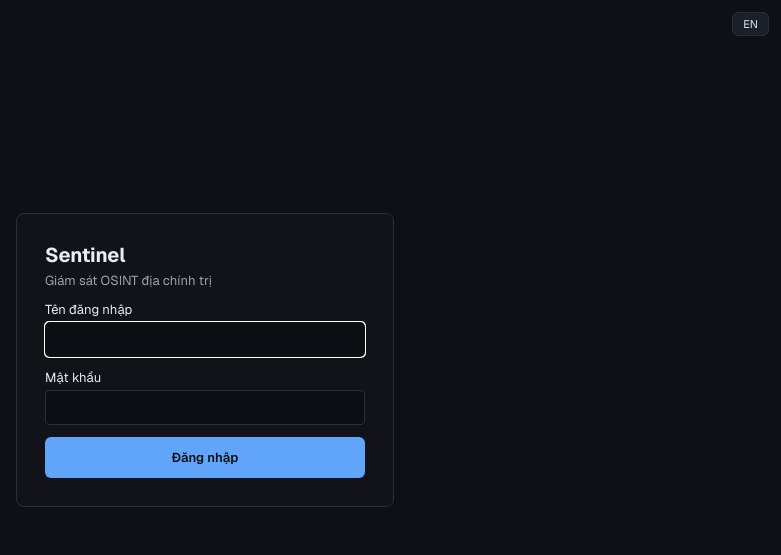
Test: LoginPage › distinguishes a rejected password from an unreachable API
Type "admin" into the field labelled "Tên đăng nhập". click: {"x": 205, "y": 340}
box: x1=45 y1=322 x2=365 y2=357
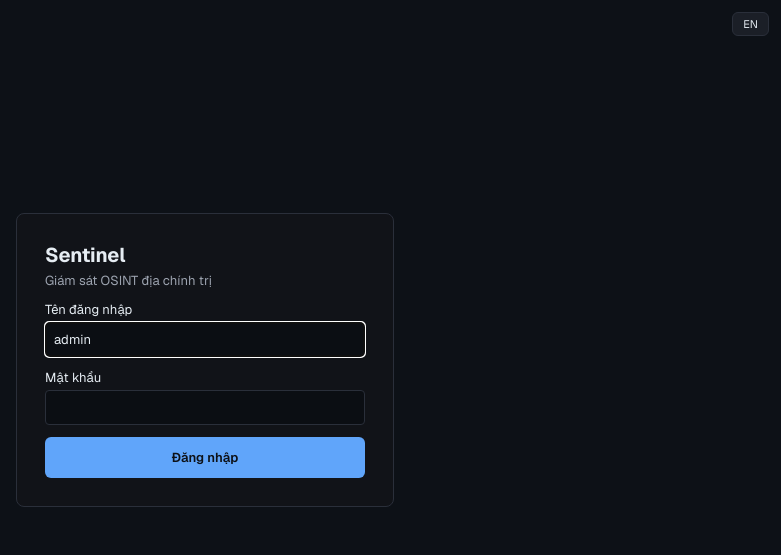
Type "wrong" into the password field labelled "Mật khẩu". click: {"x": 205, "y": 408}
box: x1=45 y1=390 x2=365 y2=425
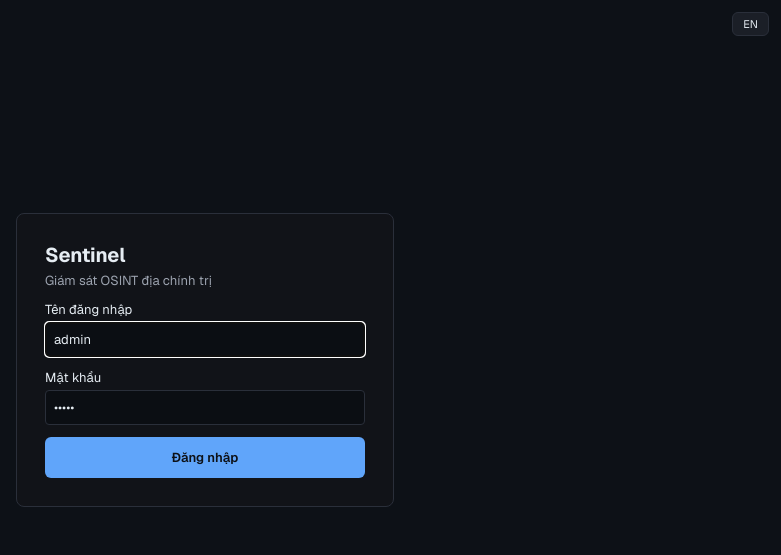
Click the button "Đăng nhập". click: {"x": 205, "y": 458}
box: x1=45 y1=437 x2=365 y2=478
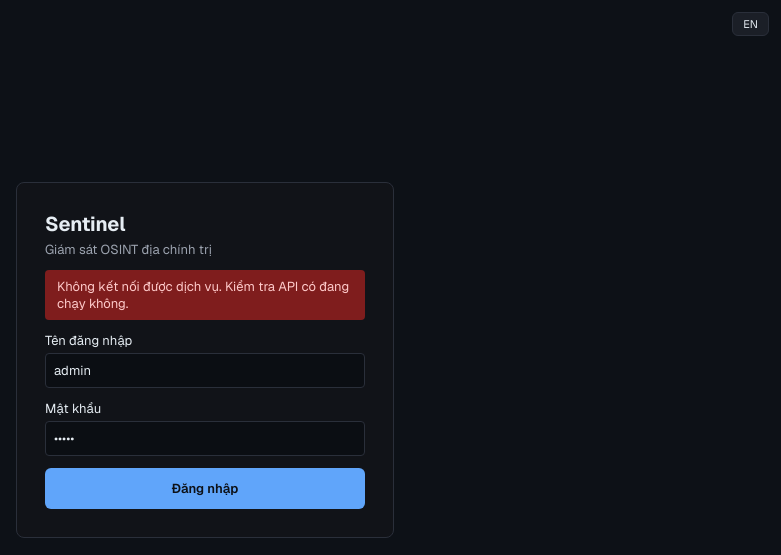
Expected: the text "Không kết nối được dịch vụ. Kiểm tra API có đang chạy không." is shown, x1=45 y1=270 x2=365 y2=320
